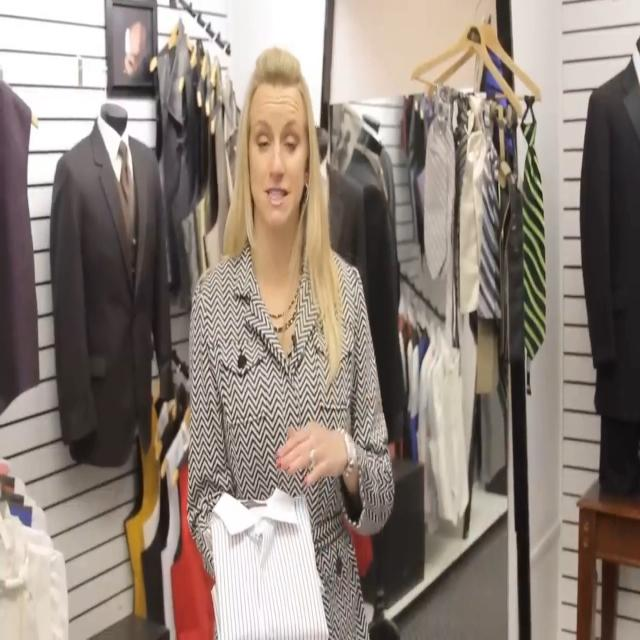Shirt: (202, 488, 330, 640)
